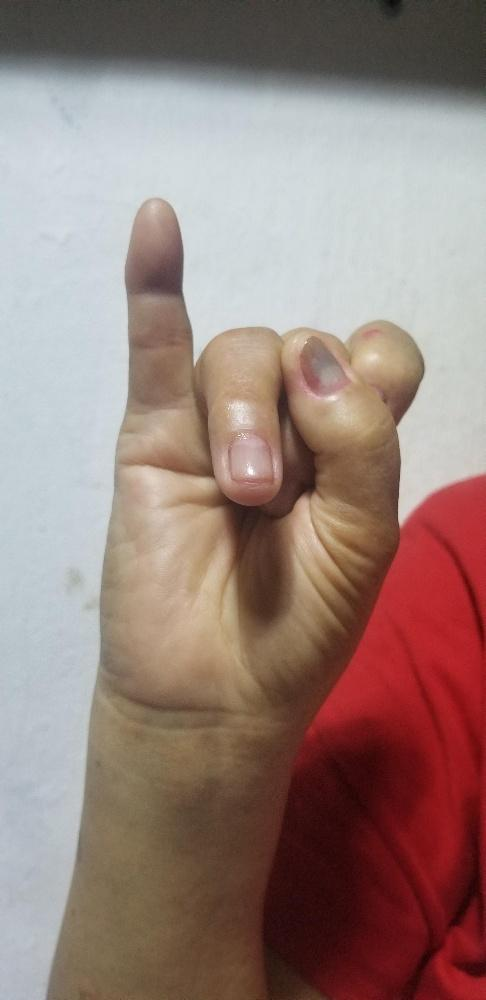i: (101, 196, 426, 685)
